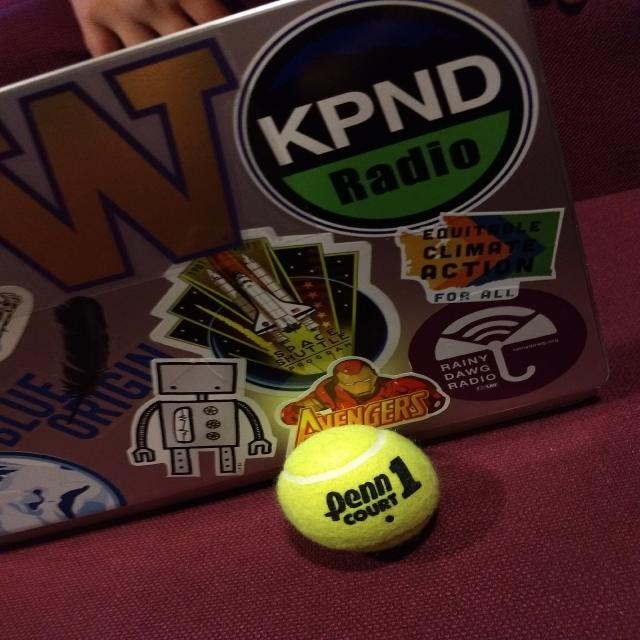Tennis-Ball: (275, 423, 440, 556)
